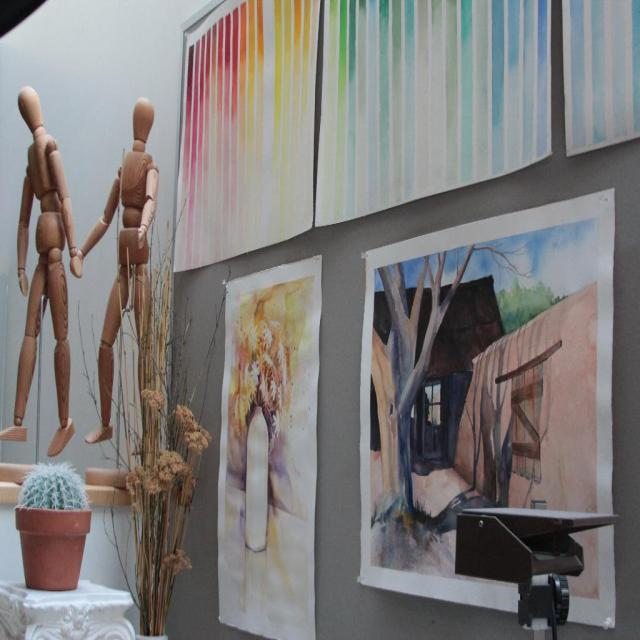Toy: (0, 87, 82, 456), (77, 98, 160, 456)
